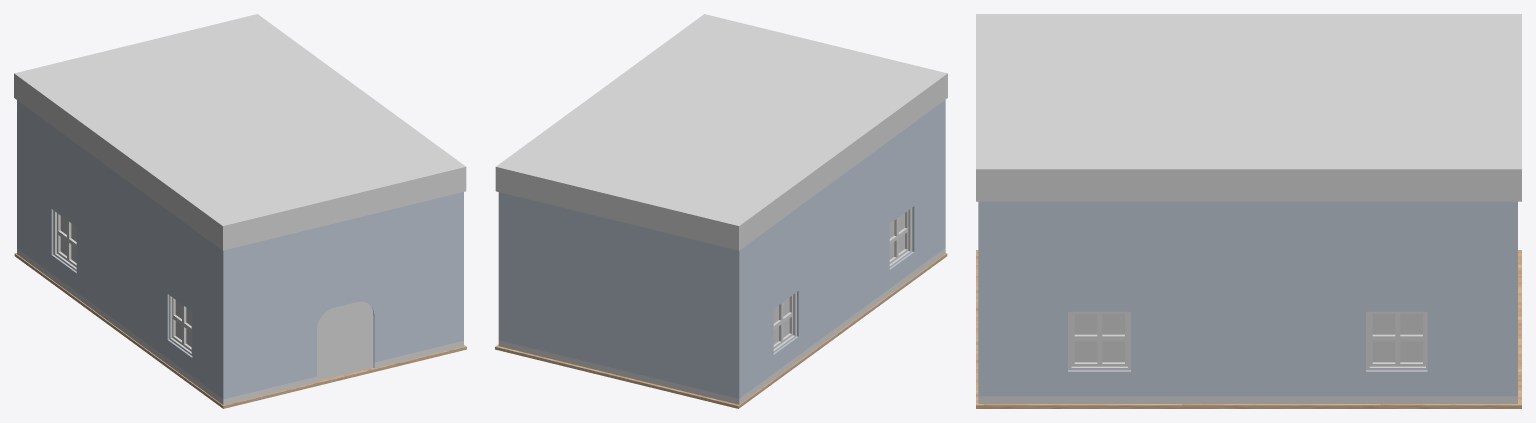
Rendered from room_assets.fbx.
3 renders of one model, left to right at view 1: azimuth 30°, elevation 25°; view 2: azimuth 150°, elevation 25°; view 3: azimuth 270°, elevation 25°, orthographic. The views are drawn at different scales.
Visible parts, largest first — view 1: walls, ceiling, door, floor, window_frame3, window_frame2; view 2: walls, ceiling, floor, window_frame2, window_frame3; view 3: ceiling, walls, floor, window_glass1, window_glass, window_frame, window_frame1.
Part boxes in pixels (x1,y1,x2,y2): walls: [17, 100, 463, 405]; ceiling: [14, 14, 466, 250]; door: [317, 301, 373, 381]; floor: [14, 253, 466, 408]; window_frame3: [169, 295, 192, 355]; window_frame2: [53, 210, 76, 271]; walls: [498, 100, 945, 404]; ceiling: [495, 14, 947, 250]; floor: [495, 253, 947, 408]; window_frame2: [773, 292, 796, 352]; window_frame3: [889, 208, 912, 267]; ceiling: [976, 14, 1521, 201]; walls: [978, 201, 1517, 403]; floor: [976, 250, 1521, 408]; window_glass1: [1372, 313, 1422, 362]; window_glass: [1074, 313, 1124, 362]; window_frame: [1068, 311, 1130, 370]; window_frame1: [1366, 311, 1427, 370].
Size of the model in its own units: 32.51 by 23.29 by 48.17.
4 materials, 1 textured.
